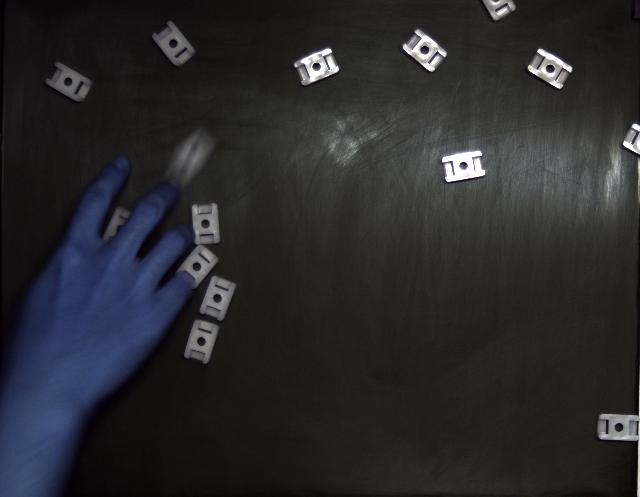second_side: (152, 21, 196, 66), (402, 29, 446, 72), (45, 62, 92, 102), (528, 49, 572, 89), (294, 49, 339, 86), (442, 151, 485, 182), (191, 202, 220, 245), (598, 414, 640, 441)
